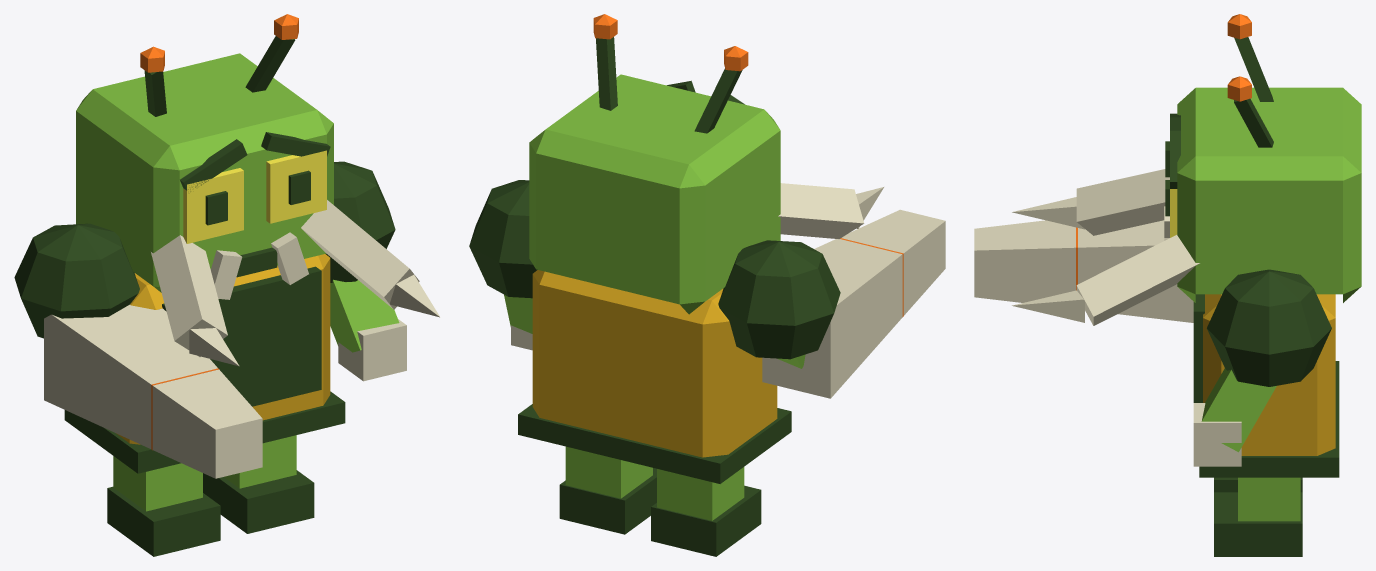
The model's file is breacher_r10.glb.
3 views of the same model, side by side, from view 1: azimuth 30°, elevation 25°; view 2: azimuth 150°, elevation 25°; view 3: azimuth 270°, elevation 25° (orthographic). The views are drawn at different scales.
Parts seen in each view (by area): view 1: breacher_r10_mesh; view 2: breacher_r10_mesh; view 3: breacher_r10_mesh.
Boxes of the visible parts, bbox=[...] form: breacher_r10_mesh: bbox=[14, 14, 440, 556]; breacher_r10_mesh: bbox=[469, 14, 945, 556]; breacher_r10_mesh: bbox=[974, 14, 1361, 556].
Bounding box in the file's own units: 1.55 × 2 × 1.48.
Materials: 1 (1 with a texture image).
